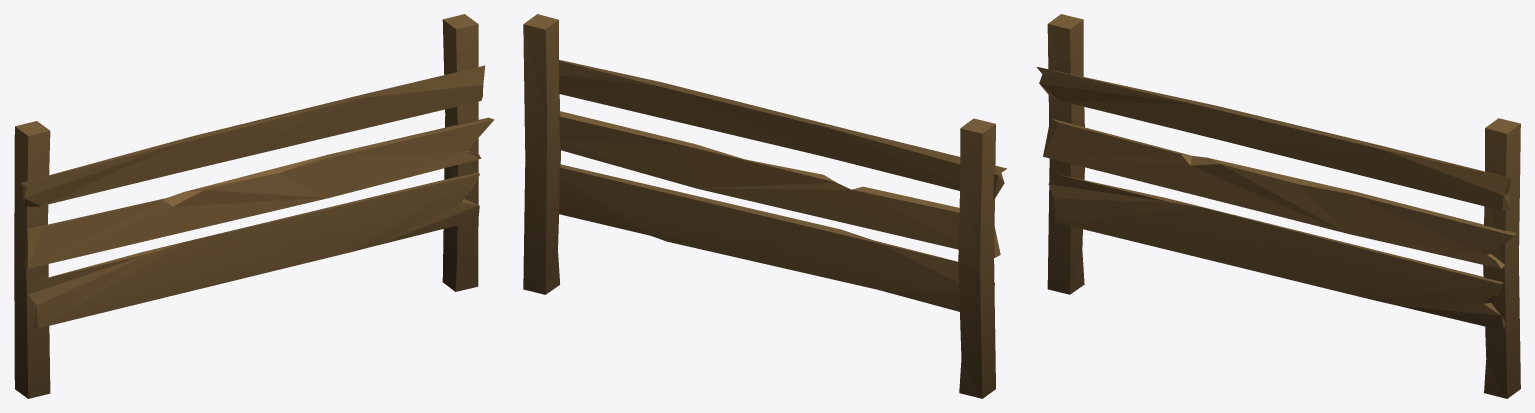
Rendered from Fence_04.fbx.
The picture shows the model from 3 angles, left to right: view 1: azimuth 30°, elevation 25°; view 2: azimuth 150°, elevation 25°; view 3: azimuth 330°, elevation 25°; orthographic projection.
Visible parts, largest first — view 1: Fence_04; view 2: Fence_04; view 3: Fence_04.
Boxes of the visible parts, left/top/right/bottom form: Fence_04: left=14, top=14, right=494, bottom=398; Fence_04: left=523, top=14, right=1006, bottom=398; Fence_04: left=1036, top=14, right=1520, bottom=398.
Size of the model in its own units: 2.14 by 1.13 by 0.1446.
